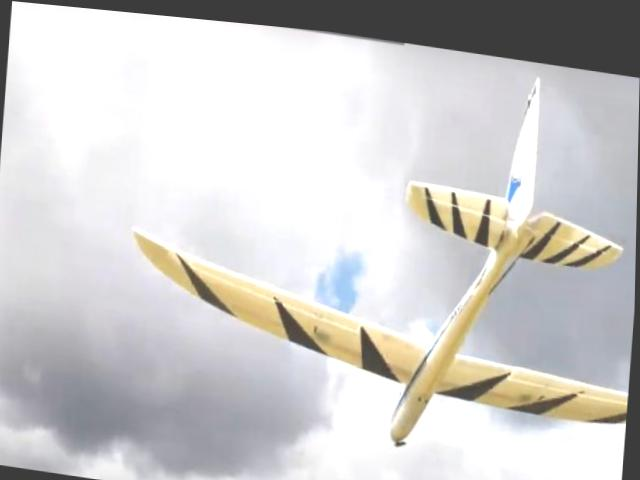iha: (120, 35, 640, 470)
